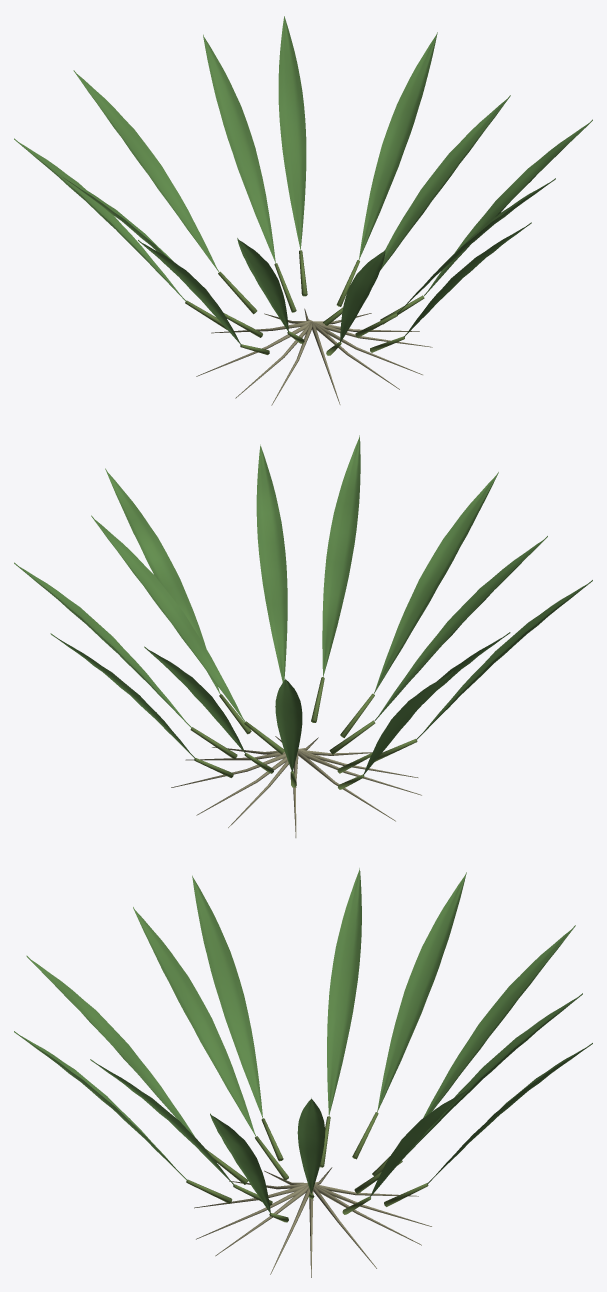
Rendered from cryptparva-mobile.glb.
The picture shows the model from 3 angles, top to bottom: view 1: azimuth 30°, elevation 25°; view 2: azimuth 150°, elevation 25°; view 3: azimuth 270°, elevation 25°; orthographic projection. The views are drawn at different scales.
Visible parts, largest first — view 1: blade, anchoring-root, petiole; view 2: blade, anchoring-root, petiole; view 3: blade, anchoring-root, petiole.
Part boxes in pixels (bbox=[...]): blade: bbox=[14, 16, 592, 345]; anchoring-root: bbox=[196, 308, 432, 405]; petiole: bbox=[185, 250, 424, 355]; blade: bbox=[14, 435, 592, 775]; anchoring-root: bbox=[171, 736, 421, 837]; petiole: bbox=[190, 677, 417, 789]; blade: bbox=[14, 868, 592, 1213]; anchoring-root: bbox=[194, 1167, 431, 1277]; petiole: bbox=[186, 1112, 428, 1222].
Bounding box in the file's own units: 0.56 × 0.2609 × 0.572.
